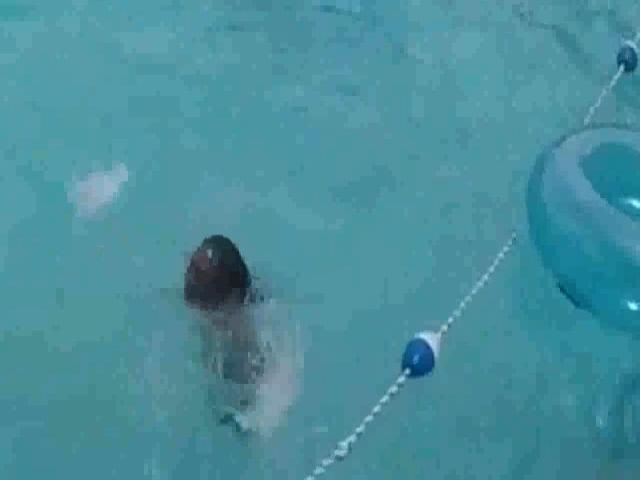drowning: (134, 215, 315, 425)
